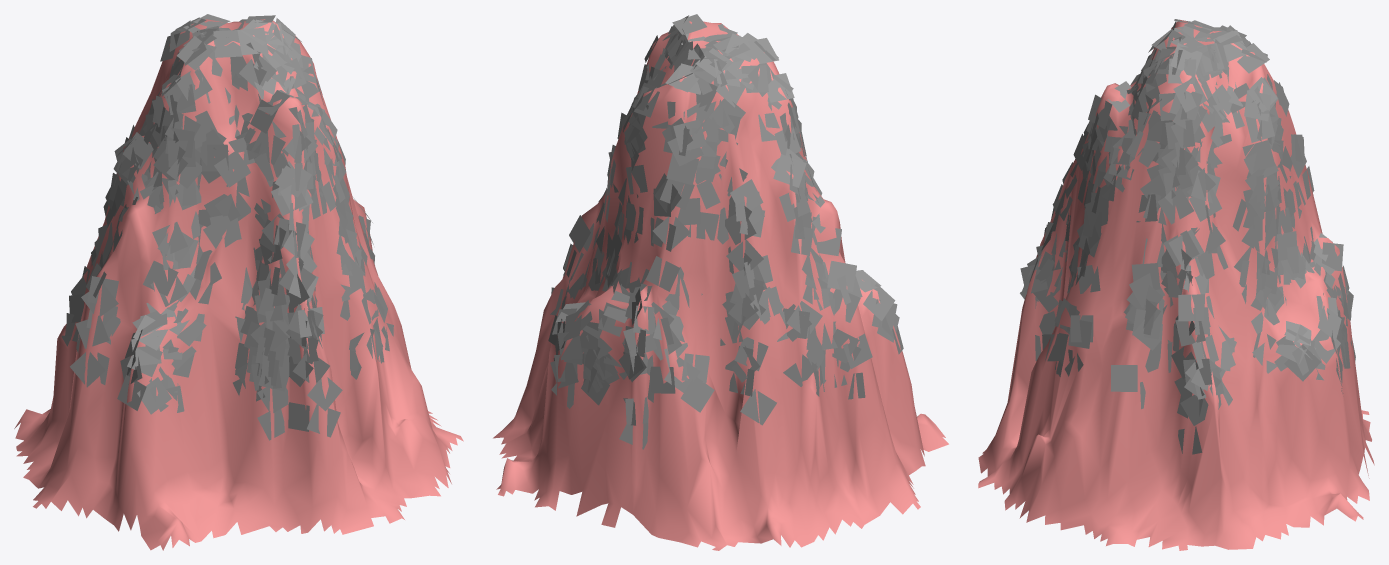
The model's file is CHN_Mountain_LOD.gltf.
The picture shows the model from 3 angles, left to right: view 1: azimuth 30°, elevation 25°; view 2: azimuth 150°, elevation 25°; view 3: azimuth 270°, elevation 25°; orthographic projection.
Parts seen in each view (by area): view 1: CHN_Mountain_LOD; view 2: CHN_Mountain_LOD; view 3: CHN_Mountain_LOD.
Boxes of the visible parts, left/top/right/bottom form: CHN_Mountain_LOD: left=14, top=14, right=463, bottom=550; CHN_Mountain_LOD: left=493, top=14, right=948, bottom=550; CHN_Mountain_LOD: left=978, top=19, right=1374, bottom=550.
Bounding box in the file's own units: 2.26 × 2.38 × 1.99.
